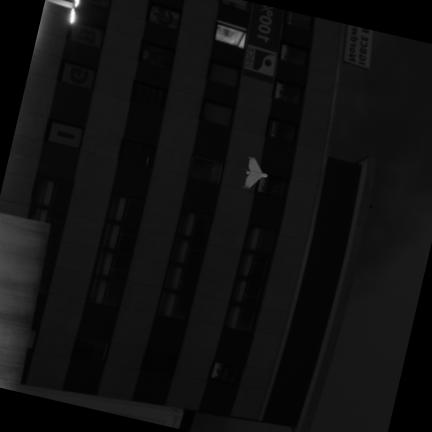Shahed: (243, 157, 266, 188)
